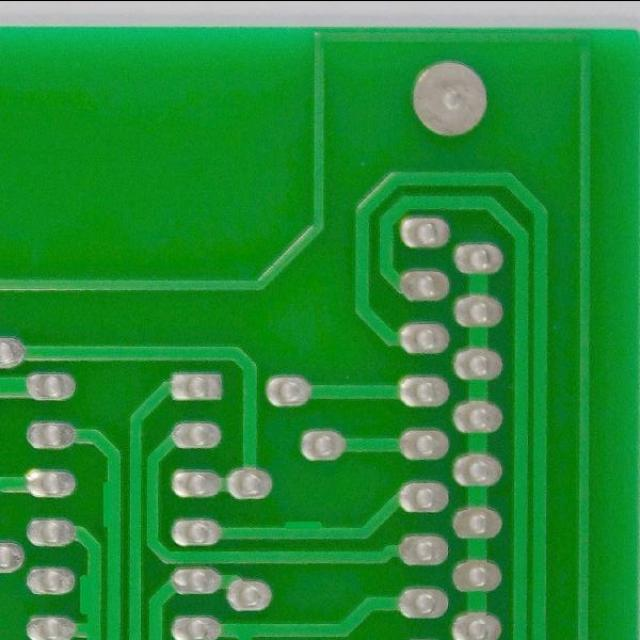Spur: (95, 472, 128, 536), (74, 567, 108, 621), (276, 515, 330, 546)
